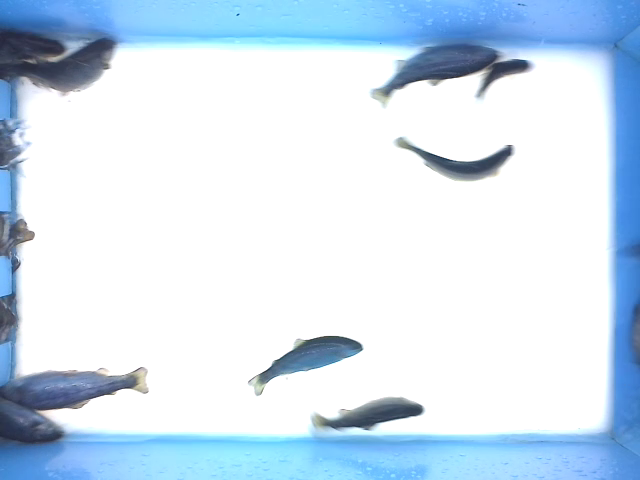fish: (368, 41, 508, 110), (244, 333, 365, 399), (1, 362, 151, 413), (1, 37, 120, 98), (391, 133, 518, 183), (307, 393, 426, 435), (471, 56, 537, 108)
